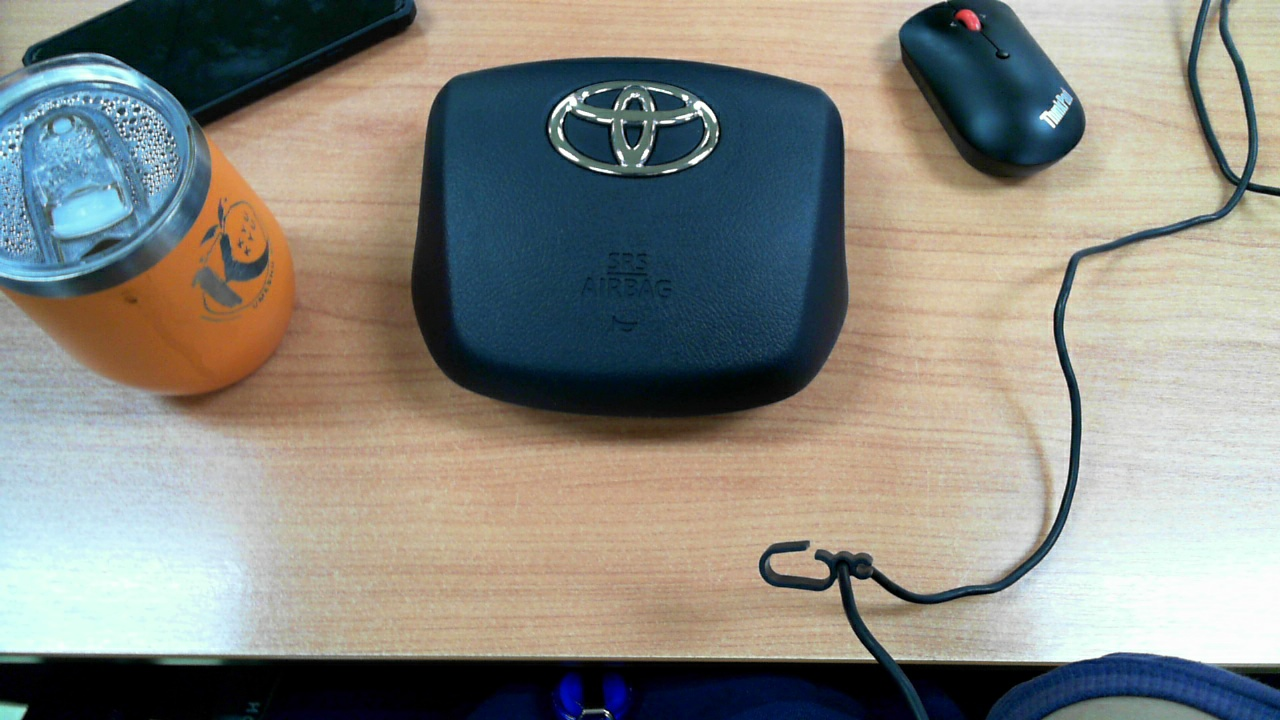Airbag: (377, 32, 878, 430)
